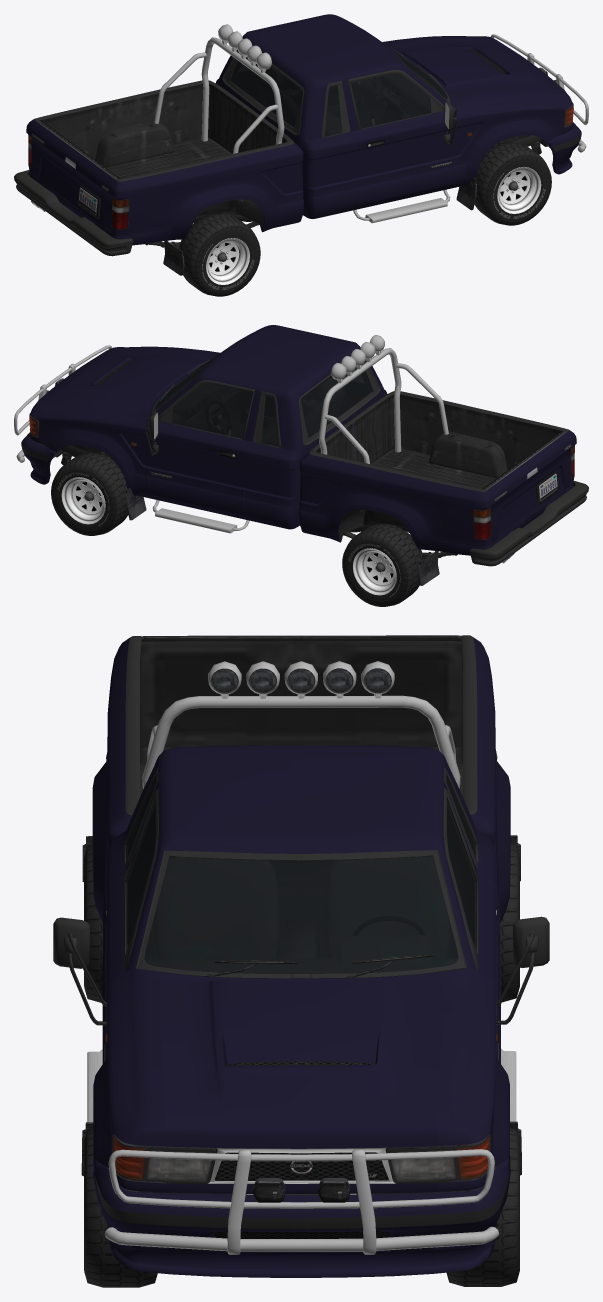
Rendered from lightbody.glb.
3 renders of one model, top to bottom at view 1: azimuth 30°, elevation 25°; view 2: azimuth 150°, elevation 25°; view 3: azimuth 270°, elevation 25°, orthographic. The views are drawn at different scales.
Parts seen in each view (by area): view 1: krmlgtbdy85_Body_krmlgtbdy85_Bodymat_0, krmlgtbdy85_Bottom_UCB_BOTTOM_0, krmlgtbdy85_Hood_krmlgtbdy85_Bodymat_0, krmlgtbdy85_Interior_UCB_Interiors_1_0, krmlgtbdy85_WheelStock_RR_RO1a_Tire_0, krmlgtbdy85_WheelStock_FR_RO1a_Tire_0, krmlgtbdy85_Trunkdoor_krmlgtbdy85_Bodymat_0, krmlgtbdy85_Extra_A_UCB_BOTTOM_0, krmlgtbdy85_Glass_Passanger_UCB_Lights_and_Glass_Transperent, krmlgtbdy85_Bumper_Rear_UCB_BOTTOM_0, krmlgtbdy85_Lifted_Trim_UCB_BOTTOM_0, krmlgtbdy85_Glass_Rear_UCB_Lights_and_Glass_Transperent_0 (+6 smaller); view 2: krmlgtbdy85_Body_krmlgtbdy85_Bodymat_0, krmlgtbdy85_Bottom_UCB_BOTTOM_0, krmlgtbdy85_Hood_krmlgtbdy85_Bodymat_0, krmlgtbdy85_Interior_UCB_Interiors_1_0, krmlgtbdy85_WheelStock_RL_RO1a_Tire_0, krmlgtbdy85_WheelStock_FL_RO1a_Tire_0, krmlgtbdy85_Trunkdoor_krmlgtbdy85_Bodymat_0, krmlgtbdy85_Extra_A_UCB_BOTTOM_0, krmlgtbdy85_Glass_Driver_UCB_Lights_and_Glass_Transperent_0, krmlgtbdy85_Bumper_Rear_UCB_BOTTOM_0, krmlgtbdy85_Lifted_Trim_UCB_BOTTOM_0, krmlgtbdy85_Glass_Rear_UCB_Lights_and_Glass_Transperent_0 (+6 smaller); view 3: krmlgtbdy85_Body_krmlgtbdy85_Bodymat_0, krmlgtbdy85_Hood_krmlgtbdy85_Bodymat_0, krmlgtbdy85_Interior_UCB_Interiors_1_0, krmlgtbdy85_Windshield_UCB_Lights_and_Glass_Transperent_0, krmlgtbdy85_Trunk_door_inner_UCB_BOTTOM_0, krmlgtbdy85_Bottom_UCB_BOTTOM_0, krmlgtbdy85_Bumper_Front_krmlgtbdy85_Bodymat_0, krmlgtbdy85_Bullbar_UCB_BOTTOM_0, krmlgtbdy85_Extra_A_UCB_BOTTOM_0, krmlgtbdy85_Lifted_Trim_UCB_BOTTOM_0, krmlgtbdy85_Bumper_front_inner_UCB_BOTTOM_0, krmlgtbdy85_Headlights_Glass_UCB_Lights_and_Glass_Transperen (+8 smaller).
Part boxes in pixels (bbox=[...]): krmlgtbdy85_Body_krmlgtbdy85_Bodymat_0: bbox=[26, 14, 573, 245]; krmlgtbdy85_Bottom_UCB_BOTTOM_0: bbox=[28, 42, 573, 230]; krmlgtbdy85_Hood_krmlgtbdy85_Bodymat_0: bbox=[386, 38, 563, 97]; krmlgtbdy85_Interior_UCB_Interiors_1_0: bbox=[231, 57, 446, 135]; krmlgtbdy85_WheelStock_RR_RO1a_Tire_0: bbox=[178, 213, 260, 296]; krmlgtbdy85_WheelStock_FR_RO1a_Tire_0: bbox=[474, 142, 551, 225]; krmlgtbdy85_Trunkdoor_krmlgtbdy85_Bodymat_0: bbox=[30, 121, 115, 233]; krmlgtbdy85_Extra_A_UCB_BOTTOM_0: bbox=[154, 24, 284, 153]; krmlgtbdy85_Glass_Passanger_UCB_Lights_and_Glass_Transperent: bbox=[350, 73, 430, 128]; krmlgtbdy85_Bumper_Rear_UCB_BOTTOM_0: bbox=[14, 170, 133, 256]; krmlgtbdy85_Lifted_Trim_UCB_BOTTOM_0: bbox=[163, 101, 476, 275]; krmlgtbdy85_Glass_Rear_UCB_Lights_and_Glass_Transperent_0: bbox=[230, 57, 301, 127]; krmlgtbdy85_Body_krmlgtbdy85_Bodymat_0: bbox=[29, 325, 576, 555]; krmlgtbdy85_Bottom_UCB_BOTTOM_0: bbox=[29, 352, 574, 563]; krmlgtbdy85_Hood_krmlgtbdy85_Bodymat_0: bbox=[39, 349, 215, 407]; krmlgtbdy85_Interior_UCB_Interiors_1_0: bbox=[157, 368, 371, 446]; krmlgtbdy85_WheelStock_RL_RO1a_Tire_0: bbox=[342, 523, 423, 606]; krmlgtbdy85_WheelStock_FL_RO1a_Tire_0: bbox=[51, 452, 128, 535]; krmlgtbdy85_Trunkdoor_krmlgtbdy85_Bodymat_0: bbox=[487, 432, 572, 543]; krmlgtbdy85_Extra_A_UCB_BOTTOM_0: bbox=[318, 335, 448, 463]; krmlgtbdy85_Glass_Driver_UCB_Lights_and_Glass_Transperent_0: bbox=[172, 384, 252, 438]; krmlgtbdy85_Bumper_Rear_UCB_BOTTOM_0: bbox=[469, 481, 588, 566]; krmlgtbdy85_Lifted_Trim_UCB_BOTTOM_0: bbox=[125, 411, 439, 585]; krmlgtbdy85_Glass_Rear_UCB_Lights_and_Glass_Transperent_0: bbox=[301, 367, 372, 437]; krmlgtbdy85_Body_krmlgtbdy85_Bodymat_0: bbox=[92, 637, 510, 1193]; krmlgtbdy85_Hood_krmlgtbdy85_Bodymat_0: bbox=[160, 978, 442, 1148]; krmlgtbdy85_Interior_UCB_Interiors_1_0: bbox=[129, 782, 473, 973]; krmlgtbdy85_Windshield_UCB_Lights_and_Glass_Transperent_0: bbox=[144, 855, 458, 973]; krmlgtbdy85_Trunk_door_inner_UCB_BOTTOM_0: bbox=[141, 635, 461, 747]; krmlgtbdy85_Bottom_UCB_BOTTOM_0: bbox=[104, 635, 499, 1195]; krmlgtbdy85_Bumper_Front_krmlgtbdy85_Bodymat_0: bbox=[92, 1155, 510, 1277]; krmlgtbdy85_Bullbar_UCB_BOTTOM_0: bbox=[104, 1149, 498, 1254]; krmlgtbdy85_Extra_A_UCB_BOTTOM_0: bbox=[142, 661, 460, 788]; krmlgtbdy85_Lifted_Trim_UCB_BOTTOM_0: bbox=[53, 835, 549, 1176]; krmlgtbdy85_Bumper_front_inner_UCB_BOTTOM_0: bbox=[95, 1176, 508, 1238]; krmlgtbdy85_Headlights_Glass_UCB_Lights_and_Glass_Transperen: bbox=[113, 1136, 490, 1182].
Size of the model in its own units: 4.93 by 1.92 by 2.14.
8 materials, 7 textured.
